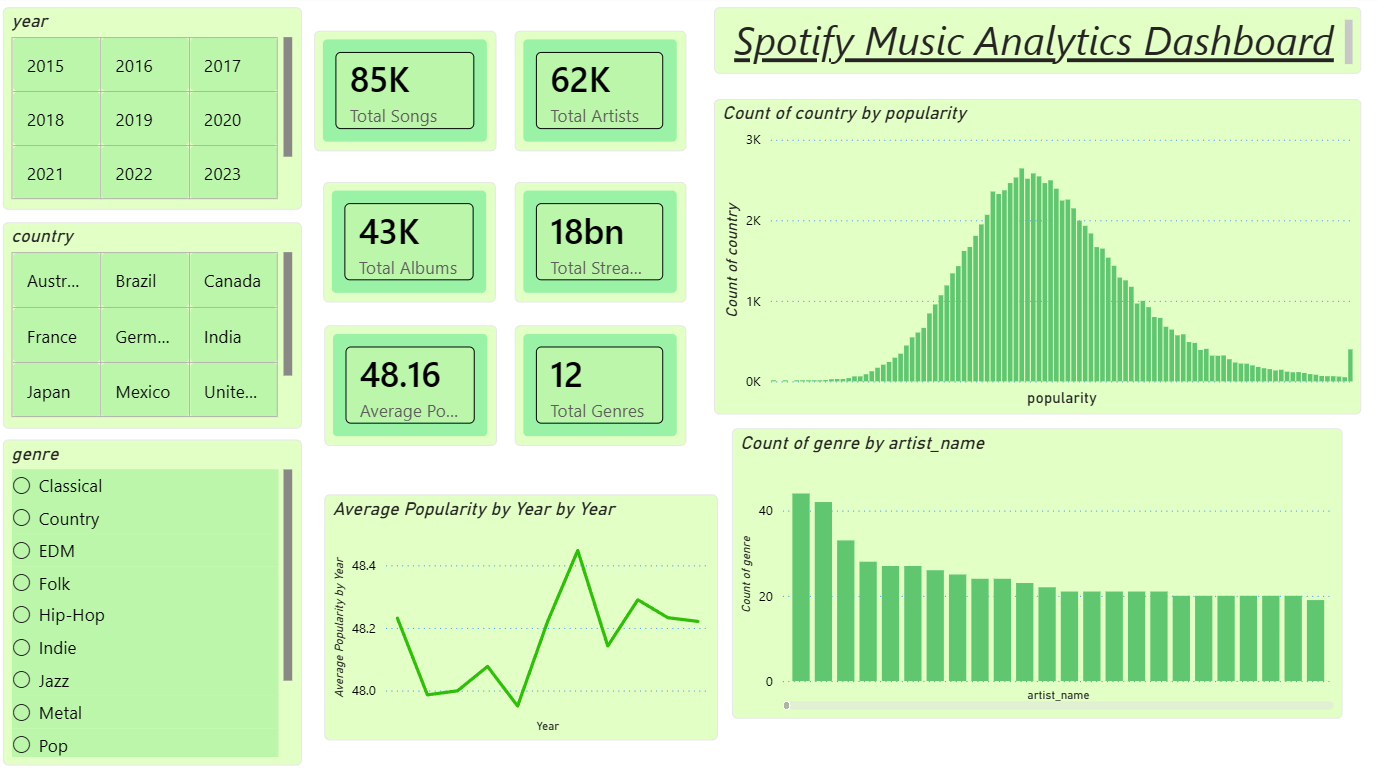

What the dashboard file says about the page in this screenshot:
{"tool":"powerbi","page":{"name":"Page 1","canvas":[1280,720],"ordinal":0},"visuals":[{"type":"lineChart","fields":{"Y":["spotify_final.Average Popularity by Year"],"Category":["spotify_final.release_date.Variation.Date Hierarchy.Year"]},"box":[304.8,461.4,363.9,228.1],"z":0},{"type":"textbox","box":[665.6,10.4,599.2,61.2],"z":1000},{"type":"cardVisual","fields":{"Data":["spotify_final.Total Songs"]},"box":[295.5,32.1,169,112],"z":2000},{"type":"cardVisual","fields":{"Data":["spotify_final.Total Artists"]},"box":[481.1,32.1,158.6,112],"z":3000},{"type":"cardVisual","fields":{"Data":["spotify_final.Total Albums"]},"box":[303.8,172.1,159.7,112],"z":4000},{"type":"cardVisual","fields":{"Data":["spotify_final.Total Streams"]},"box":[481.1,172.1,158.6,112],"z":5000},{"type":"cardVisual","fields":{"Data":["spotify_final.Average Popularity"]},"box":[304.8,304.8,159.7,112],"z":6000},{"type":"cardVisual","fields":{"Data":["spotify_final.Total Genres"]},"box":[481.1,304.8,158.6,112],"z":7000},{"type":"advancedSlicerVisual","fields":{"Values":["spotify_final.year"]},"box":[7.3,10.4,276.8,187.7],"z":8000},{"type":"listSlicer","fields":{"Values":["spotify_final.genre"]},"box":[7.3,410.6,276.8,301.7],"z":9000},{"type":"advancedSlicerVisual","fields":{"Values":["spotify_final.country"]},"box":[7.3,209.4,276.8,190.8],"z":10000},{"type":"columnChart","fields":{"Category":["spotify_final.popularity"],"Y":["CountNonNull(spotify_final.country)"]},"box":[665.6,95.4,599.2,292.4],"z":11000},{"type":"clusteredColumnChart","fields":{"Category":["spotify_final.artist_name"],"Y":["CountNonNull(spotify_final.genre)"]},"box":[699.8,400.2,565,268.5],"z":12000}]}

Visuals, with their boxes in screenshot pixels (x1, y1, x2, y2), scaled from the page's 1280x720 canvas onto the 1378x770 screenshot:
lineChart - spotify_final.Average Popularity by Year x spotify_final.release_date.Variation.Date Hierarchy.Year: locate(328, 493, 720, 737)
textbox: locate(717, 11, 1362, 77)
cardVisual - spotify_final.Total Songs: locate(318, 34, 500, 154)
cardVisual - spotify_final.Total Artists: locate(518, 34, 689, 154)
cardVisual - spotify_final.Total Albums: locate(327, 184, 499, 304)
cardVisual - spotify_final.Total Streams: locate(518, 184, 689, 304)
cardVisual - spotify_final.Average Popularity: locate(328, 326, 500, 446)
cardVisual - spotify_final.Total Genres: locate(518, 326, 689, 446)
advancedSlicerVisual - spotify_final.year: locate(8, 11, 306, 212)
listSlicer - spotify_final.genre: locate(8, 439, 306, 762)
advancedSlicerVisual - spotify_final.country: locate(8, 224, 306, 428)
columnChart - spotify_final.popularity x CountNonNull(spotify_final.country): locate(717, 102, 1362, 415)
clusteredColumnChart - spotify_final.artist_name x CountNonNull(spotify_final.genre): locate(753, 428, 1362, 715)
